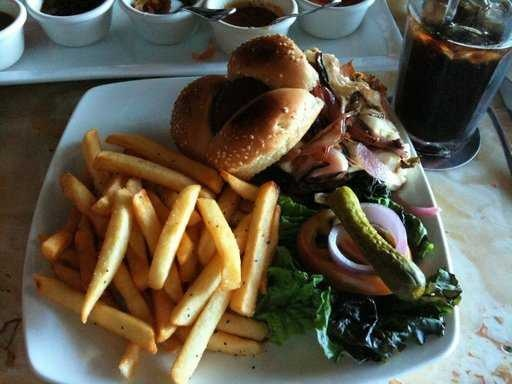hamburger: (142, 68, 427, 194)
